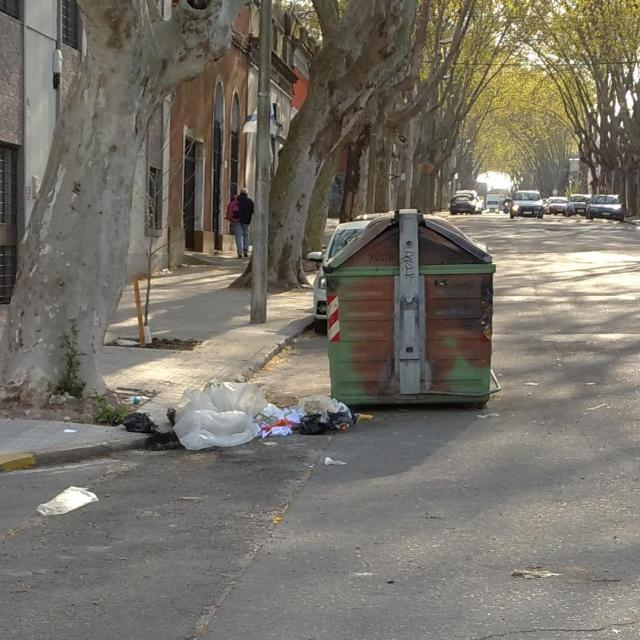garbage: (99, 312, 418, 527), (8, 452, 113, 550)
